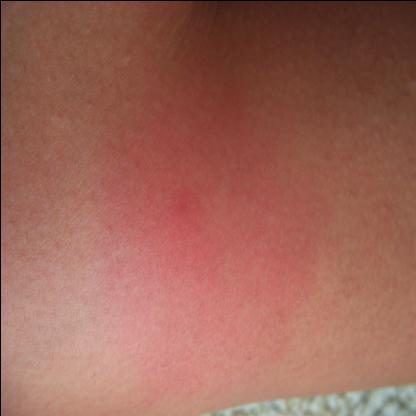Wasp: (110, 141, 274, 343)
